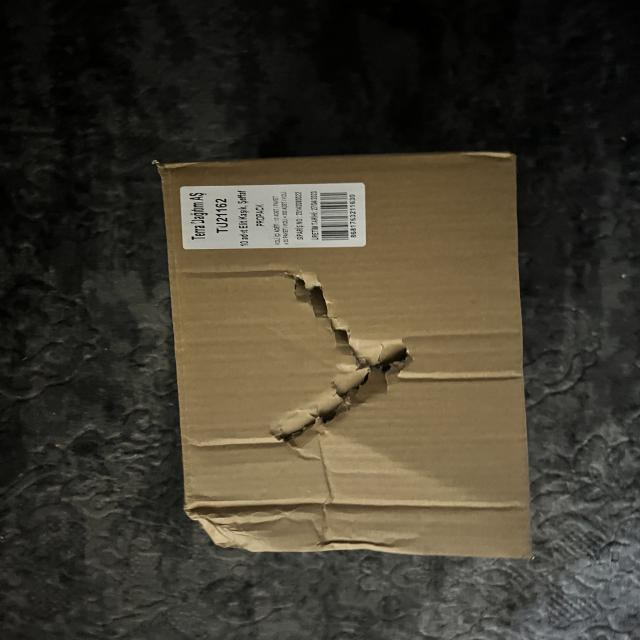damaged: (153, 150, 542, 563), (245, 258, 439, 472), (173, 486, 408, 562)
